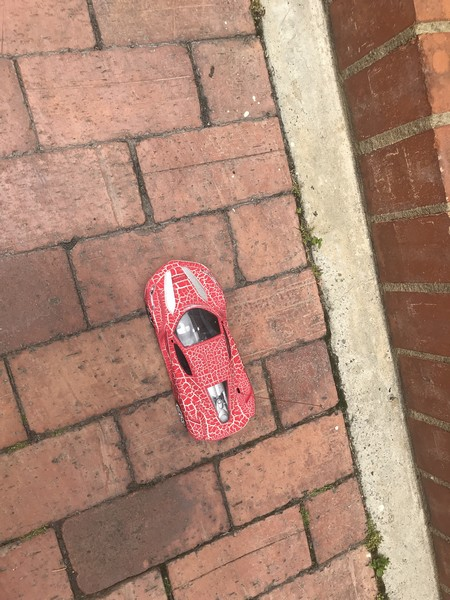RC: (142, 260, 259, 444)
